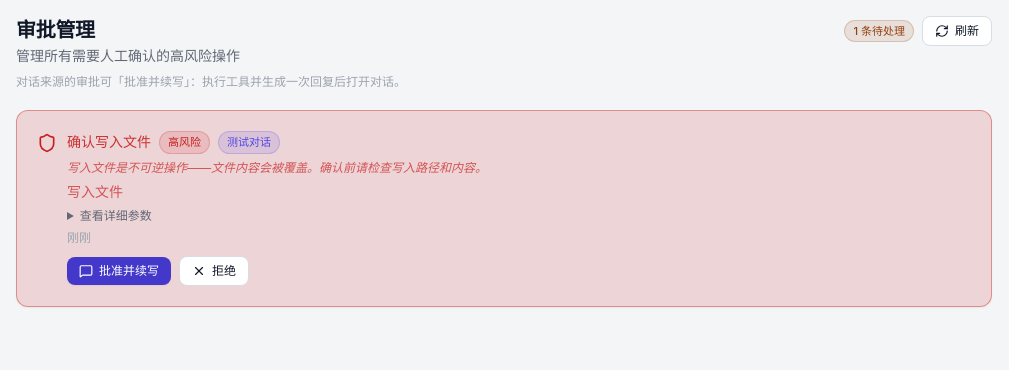
Test: ApprovalsPage › uses resolveApproval and navigates for chat-continuable approvals
Click the button "批准并续写".
click(119, 270)  # box [67,256,171,284]
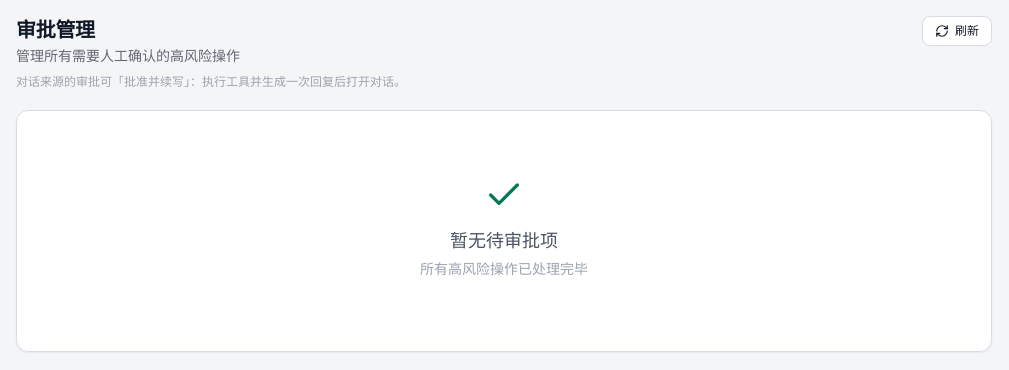
Expected: the text "暂无待审批项" is shown, [450,230,558,251]
